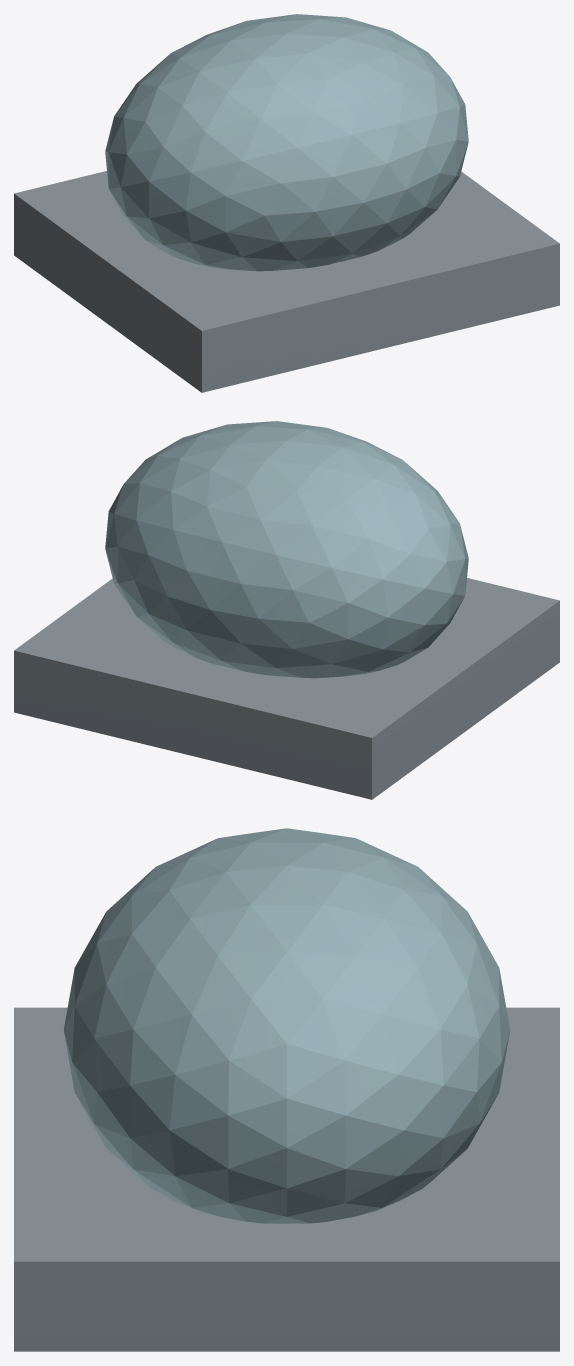
File: greenhouse-02.glb
The picture shows the model from 3 angles, top to bottom: view 1: azimuth 30°, elevation 25°; view 2: azimuth 150°, elevation 25°; view 3: azimuth 270°, elevation 25°; orthographic projection. The views are drawn at different scales.
Visible parts, largest first — view 1: world; view 2: world; view 3: world.
Part boxes in pixels (left/top/right/bottom): world: left=14, top=14, right=559, bottom=392; world: left=14, top=421, right=559, bottom=799; world: left=14, top=828, right=559, bottom=1351.
Bounding box in the file's own units: 1.21 × 0.798 × 1.1.
